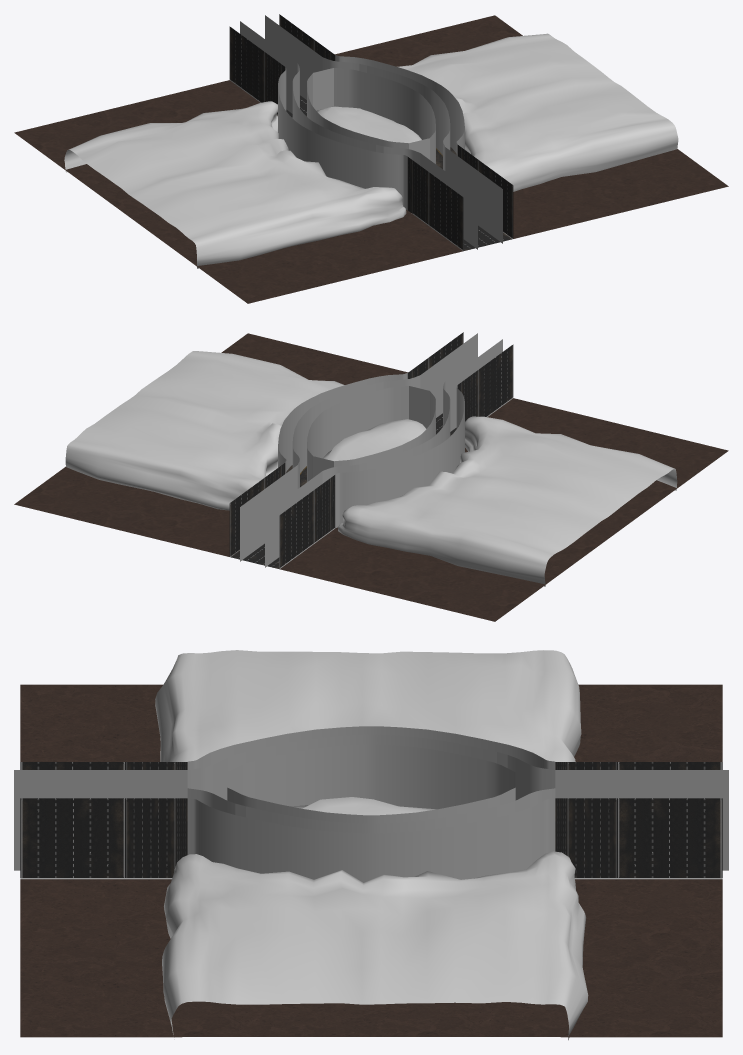
The model's file is Track_D.fbx.
3 views of the same model, one above another, from view 1: azimuth 30°, elevation 25°; view 2: azimuth 150°, elevation 25°; view 3: azimuth 270°, elevation 25° (orthographic). The views are drawn at different scales.
Parts seen in each view (by area): view 1: Canyon_Outer_D, Sand_D, Wall_D, AI_R_D, AI_L_D, Canyon_Middle_D, Road_D; view 2: Canyon_Outer_D, Sand_D, Wall_D, AI_R_D, AI_L_D, Canyon_Middle_D, Road_D; view 3: Canyon_Outer_D, Sand_D, Wall_D, AI_L_D, AI_R_D, Canyon_Middle_D.
Boxes of the visible parts, <box> form: Canyon_Outer_D: <box>64,33,678,268</box>; Sand_D: <box>14,15,728,303</box>; Wall_D: <box>229,14,513,250</box>; AI_R_D: <box>265,15,502,243</box>; AI_L_D: <box>240,21,477,249</box>; Canyon_Middle_D: <box>316,106,421,143</box>; Road_D: <box>286,95,512,250</box>; Canyon_Outer_D: <box>65,351,677,586</box>; Sand_D: <box>14,333,728,621</box>; Wall_D: <box>229,332,513,568</box>; AI_R_D: <box>240,333,477,561</box>; AI_L_D: <box>265,339,502,567</box>; Canyon_Middle_D: <box>323,419,426,461</box>; Road_D: <box>230,413,456,568</box>; Canyon_Outer_D: <box>155,650,588,1040</box>; Sand_D: <box>20,684,722,1037</box>; Wall_D: <box>20,726,722,882</box>; AI_L_D: <box>14,734,728,800</box>; AI_R_D: <box>14,788,728,870</box>; Canyon_Middle_D: <box>291,797,435,815</box>.
Size of the model in its own units: 169 by 19.61 by 145.
